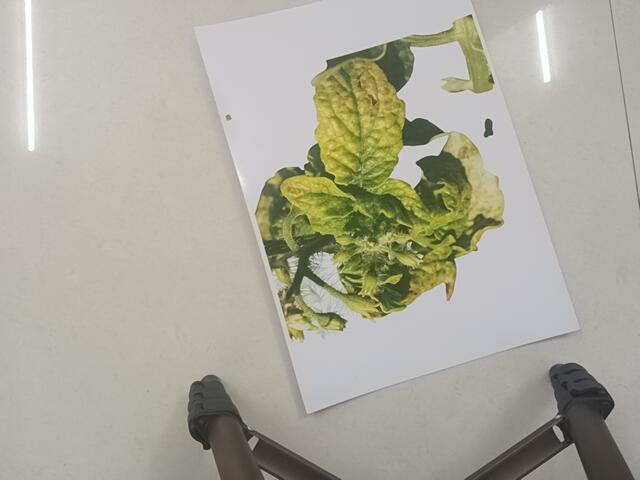Tomamto_Leaf_curl_virus: (246, 50, 508, 326)
